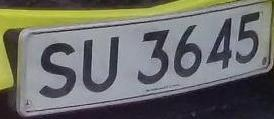3: (135, 25, 173, 88)
4: (203, 13, 236, 77)
5: (235, 8, 262, 67)
6: (171, 20, 207, 81)
S: (32, 36, 84, 103)
U: (79, 32, 125, 96)
